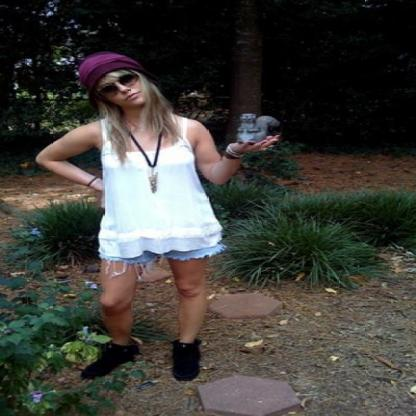hat: (75, 52, 136, 88)
shirt: (98, 113, 226, 268)
shoe: (79, 341, 201, 381)
sunglass: (101, 62, 148, 91)
